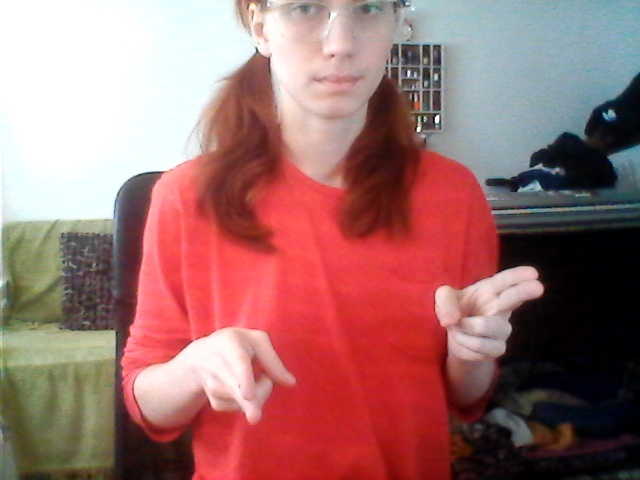ako: (218, 263, 563, 428)
